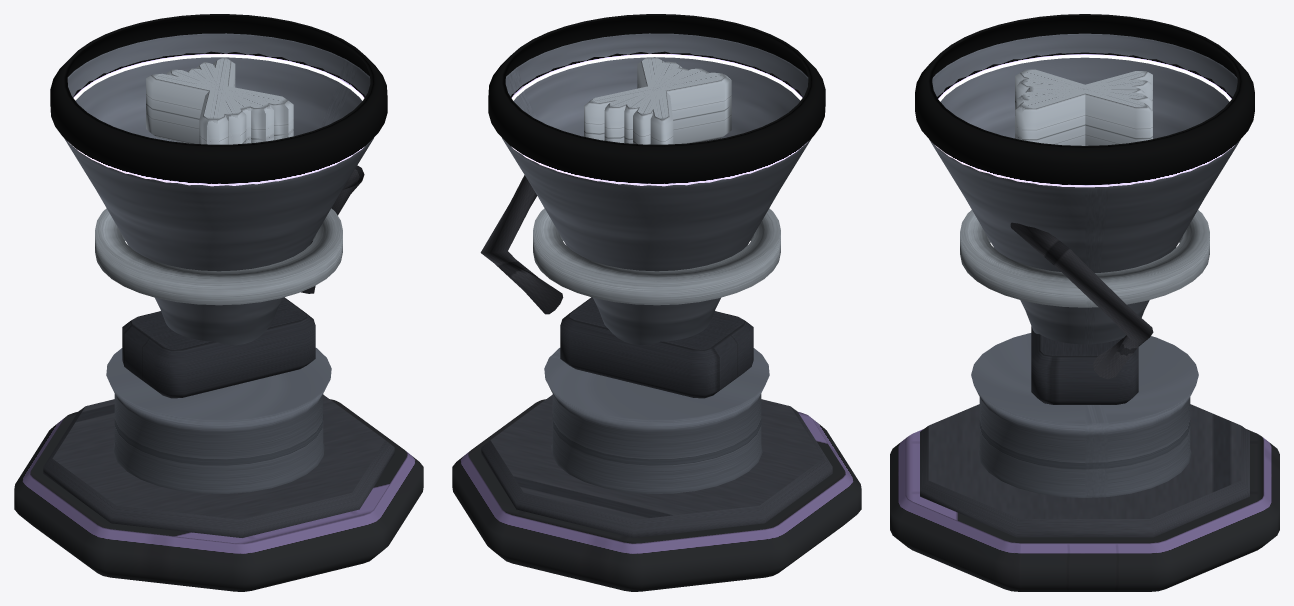
The model's file is focus.glb.
The picture shows the model from 3 angles, left to right: view 1: azimuth 30°, elevation 25°; view 2: azimuth 150°, elevation 25°; view 3: azimuth 270°, elevation 25°; orthographic projection.
Visible parts, largest first — view 1: FocusHull; view 2: FocusHull; view 3: FocusHull.
Boxes of the visible parts, <box> form: FocusHull: <box>14,14,423,591</box>; FocusHull: <box>452,14,861,591</box>; FocusHull: <box>890,14,1279,591</box>.
Size of the model in its own units: 0.3622 by 0.446 by 0.3622.
1 material, 1 textured.
